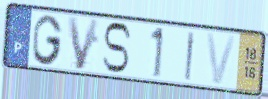1: (149, 27, 166, 80)
G: (31, 13, 65, 67)
I: (183, 30, 197, 83)
S: (100, 21, 134, 75)
V: (66, 15, 102, 72), (204, 31, 239, 87)
